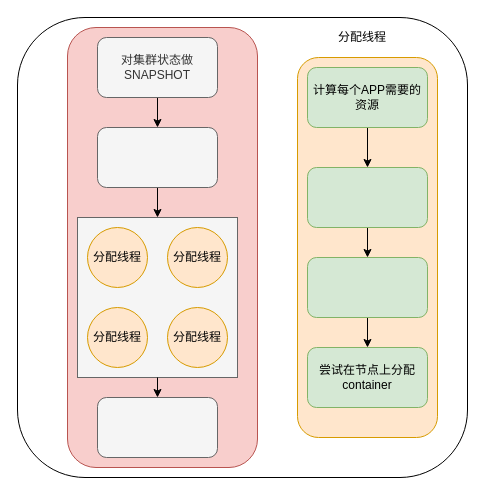
Some shapes in this 485 by 495 pixel diagram are drawn without their labels. The box of each missing label's shape, as (x1, y1, x2, y2) in pixels:
对节点打分排序: (306, 256, 428, 318)
把分配结果写回集群: (96, 396, 218, 458)
过滤节点: (306, 166, 428, 228)
预计算每个队列可以分配的资源: (96, 126, 218, 188)
